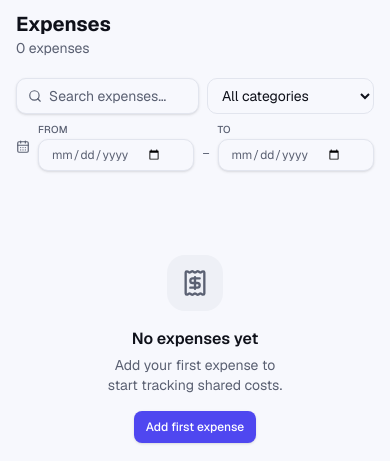
Test case: ExpensesPage — full history › distinguishes 'no expenses yet' from 'no results for these filters'
Expected: the heading "No expenses yet" is shown, [132, 327, 258, 351]
In the field with placeholder "Search expenses…": [108, 96] box [16, 78, 199, 114], type "zzz"
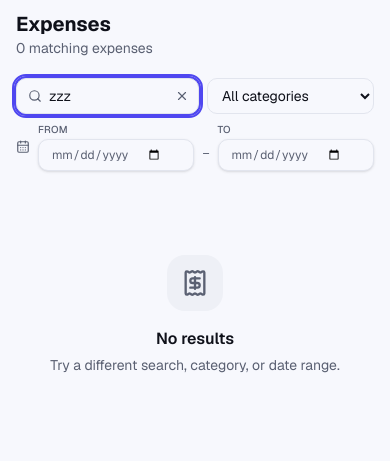
Now the heading "No results" is shown, box [156, 327, 234, 351]
